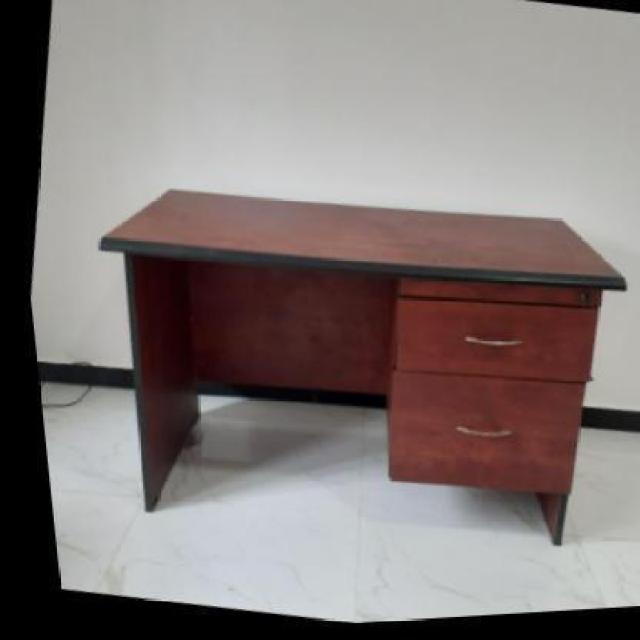tables: (97, 186, 626, 545)
